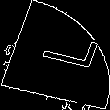L_W: (19, 32, 91, 78)
